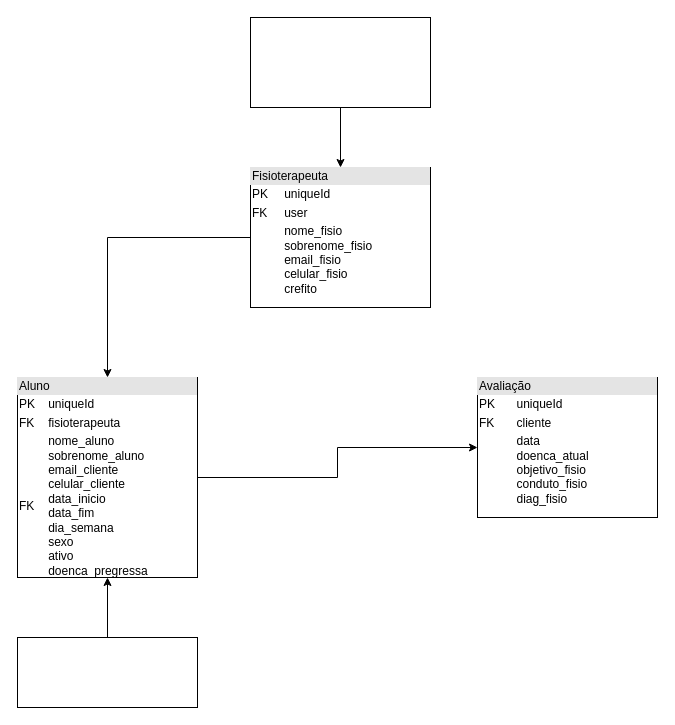
Some shapes in this 675 by 725 pixel diagram are drawn without their labels. Each missing label, with the centre of its shape:
"Dias PK uniqueId FK1 dias_semana" goes at point (107, 672).
"User PK uniqueId FK usuario_django" goes at point (340, 62).
